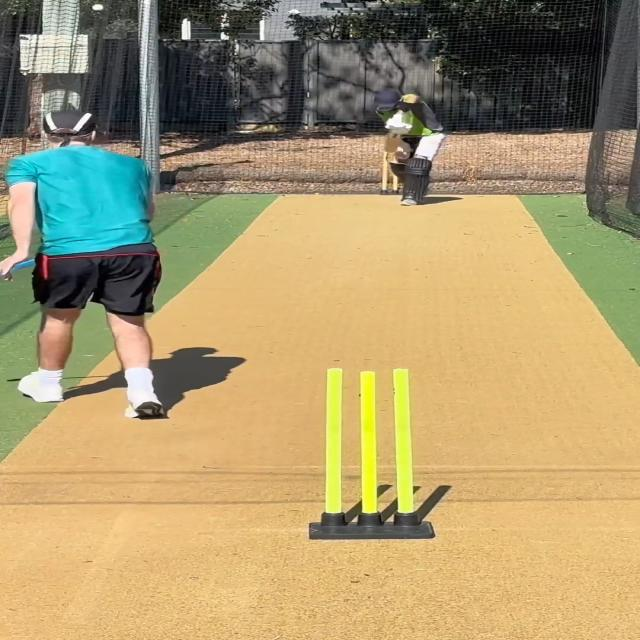ball: (89, 3, 106, 12)
stump: (311, 366, 436, 542)
